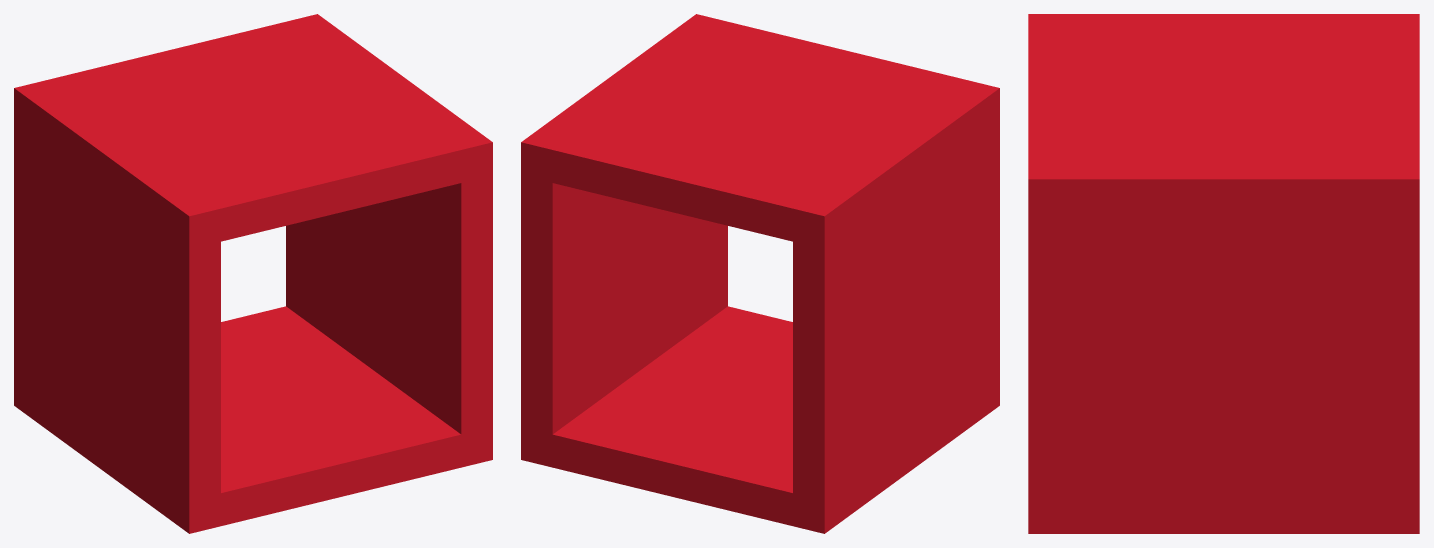
Rendered from cubeplane.glb.
The picture shows the model from 3 angles, left to right: view 1: azimuth 30°, elevation 25°; view 2: azimuth 150°, elevation 25°; view 3: azimuth 270°, elevation 25°; orthographic projection. The views are drawn at different scales.
Visible parts, largest first — view 1: Cube; view 2: Cube; view 3: Cube.
Part boxes in pixels (x1=…): Cube: x1=14, y1=14, x2=492, y2=533; Cube: x1=521, y1=14, x2=999, y2=533; Cube: x1=1028, y1=14, x2=1419, y2=533.
Size of what is drawn, in the model's own units: 2 by 2 by 2.
